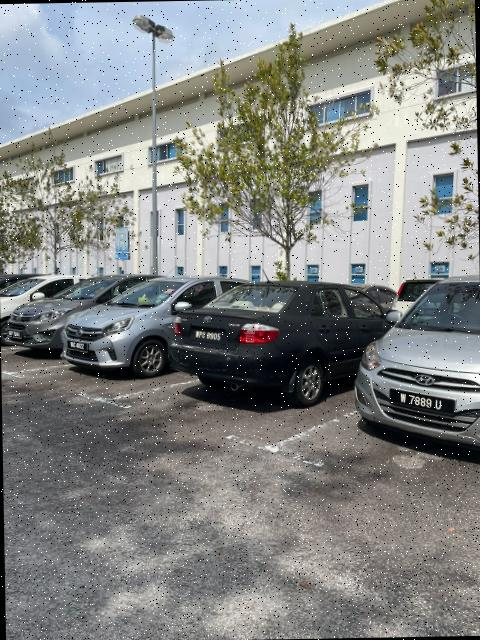License_Plate: (386, 383, 462, 423), (190, 323, 226, 350), (65, 338, 95, 355)
car: (175, 276, 376, 407), (58, 271, 266, 383), (353, 276, 480, 452)
